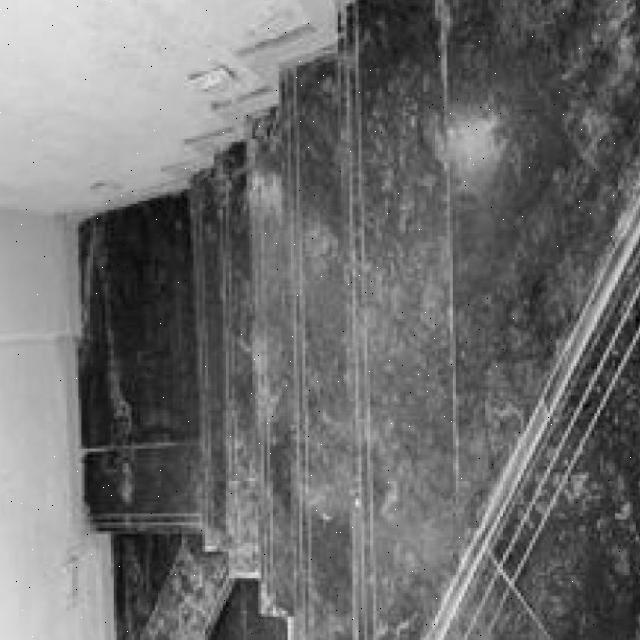stair: (282, 21, 527, 405)
